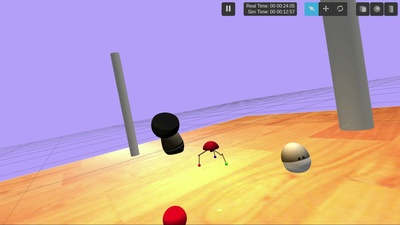mira_robot: (282, 142, 311, 173)
